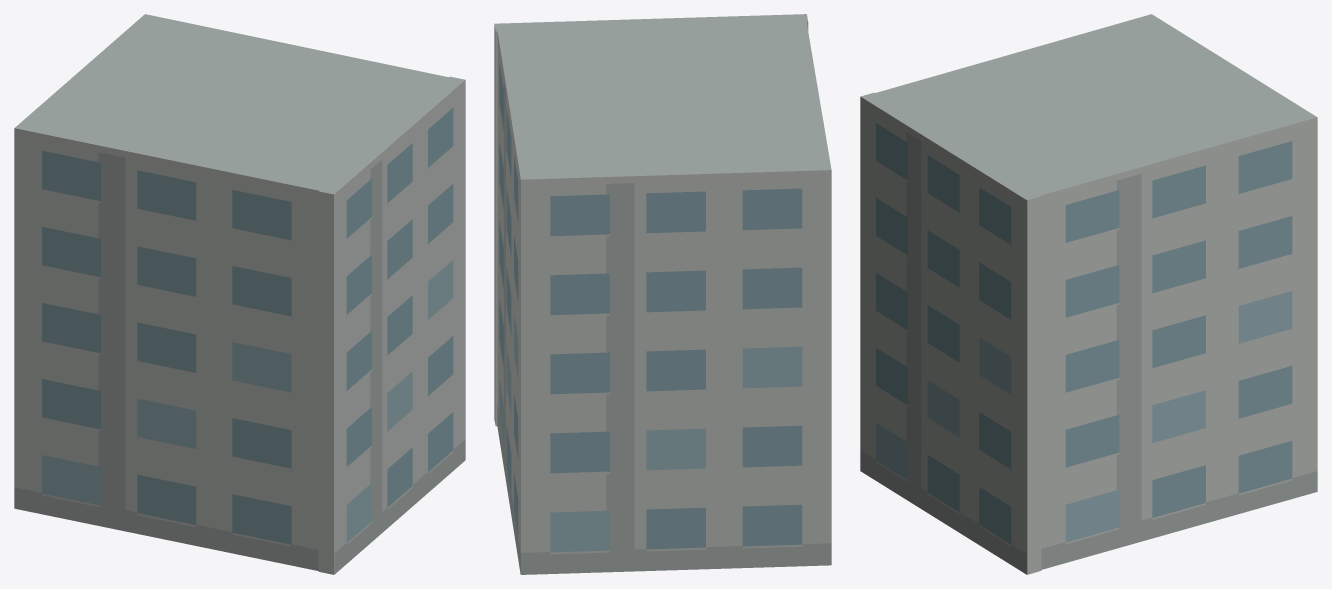
Rendered from survey-upis-32846090.glb.
The picture shows the model from 3 angles, left to right: view 1: azimuth 30°, elevation 25°; view 2: azimuth 150°, elevation 25°; view 3: azimuth 270°, elevation 25°; orthographic projection. The views are drawn at different scales.
Visible parts, largest first — view 1: survey-upis-32846090.tmp; view 2: survey-upis-32846090.tmp; view 3: survey-upis-32846090.tmp.
Part boxes in pixels (bbox=[...]): survey-upis-32846090.tmp: bbox=[14, 14, 465, 574]; survey-upis-32846090.tmp: bbox=[494, 14, 831, 574]; survey-upis-32846090.tmp: bbox=[860, 14, 1317, 574].
Size of the model in its own units: 14.63 by 13.7 by 15.16.
